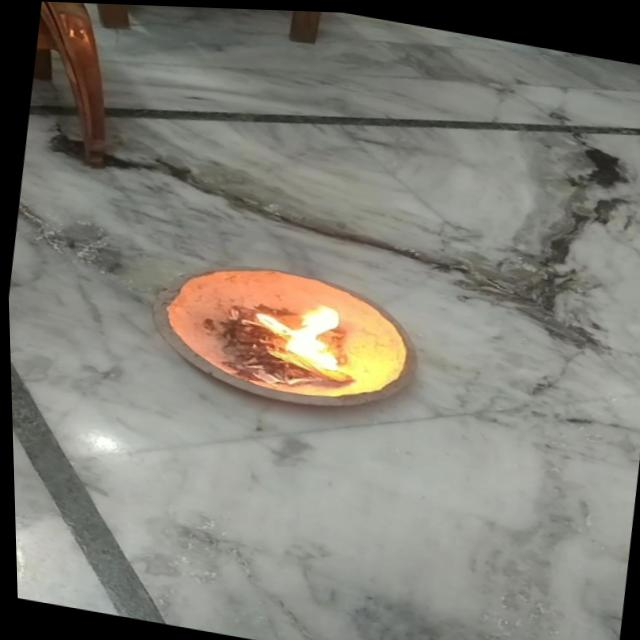fire: (239, 288, 355, 379)
